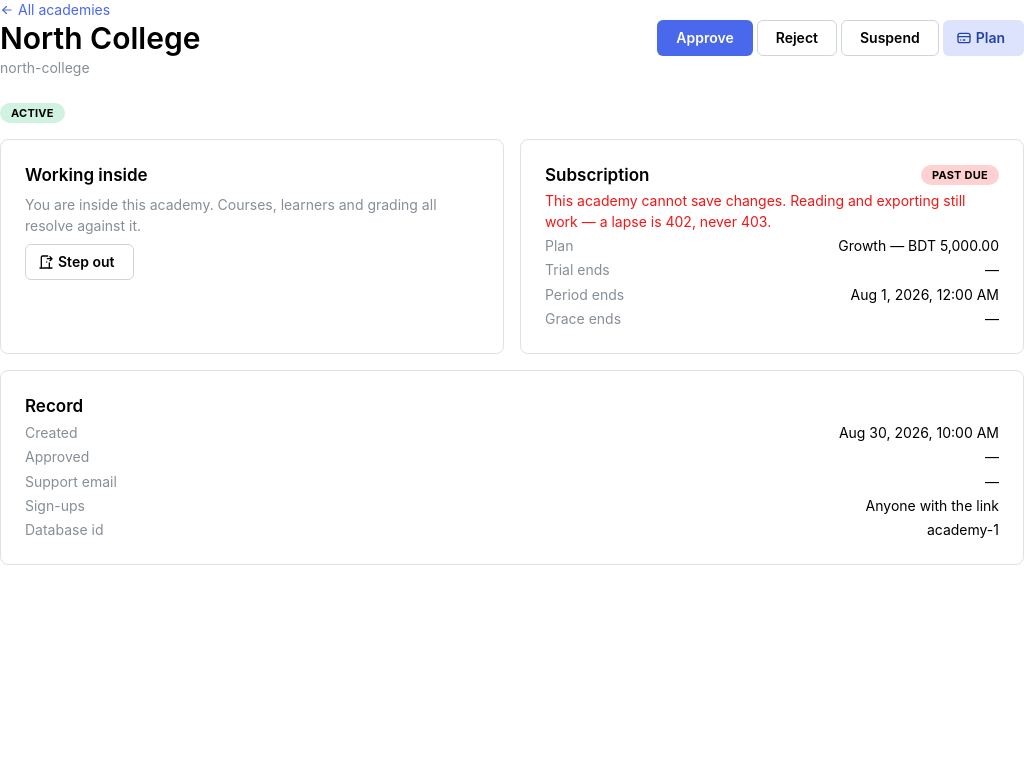
Test case: AcademyDetailRoute › offers the plan picker seeded from the academy’s current plan
What coordinates should you click on to do the following:
click the button "Plan"
I would click on:
 (983, 38)
Its box is left=943, top=20, right=1023, bottom=56.
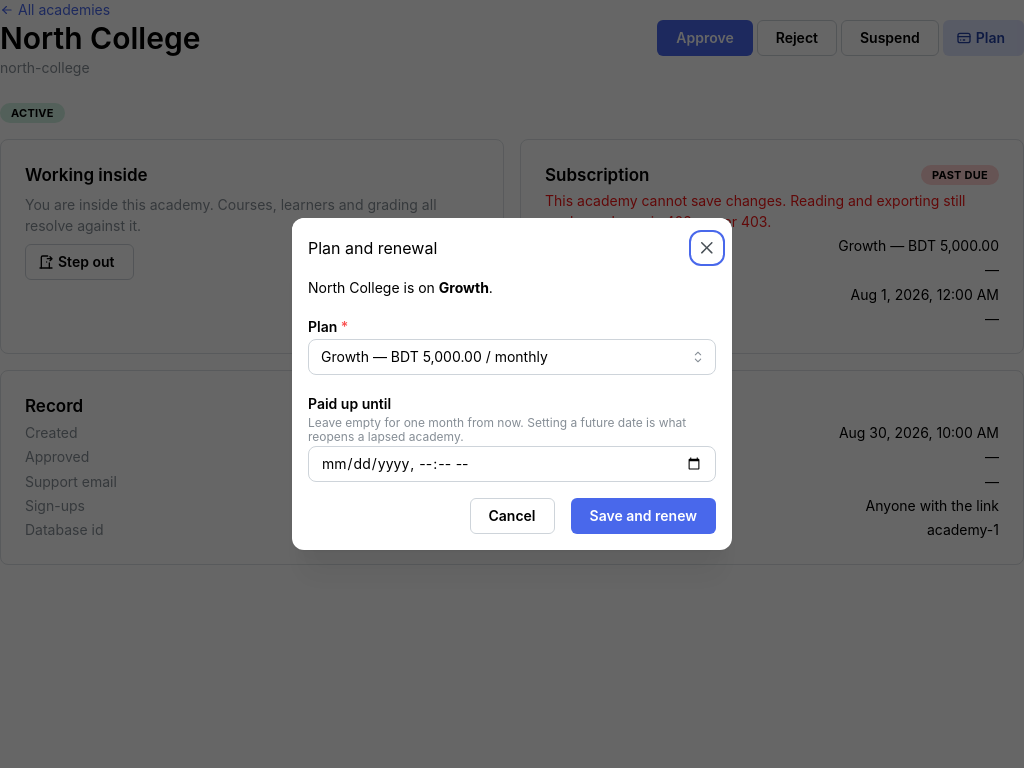
Check: the text "reopens a lapsed academy" is shown, box left=308, top=414, right=686, bottom=444
